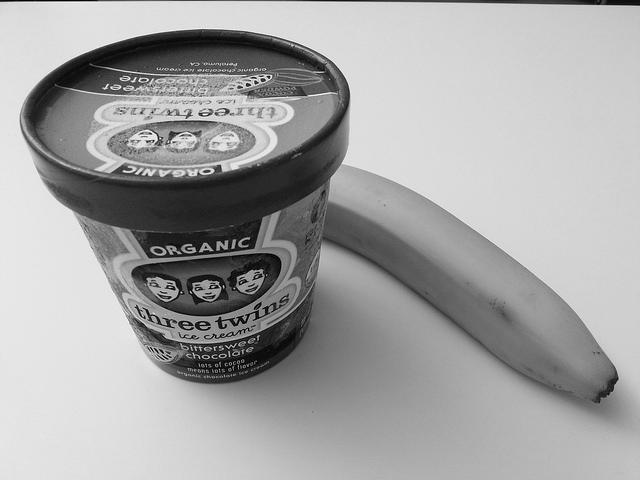cup: (4, 9, 367, 398)
